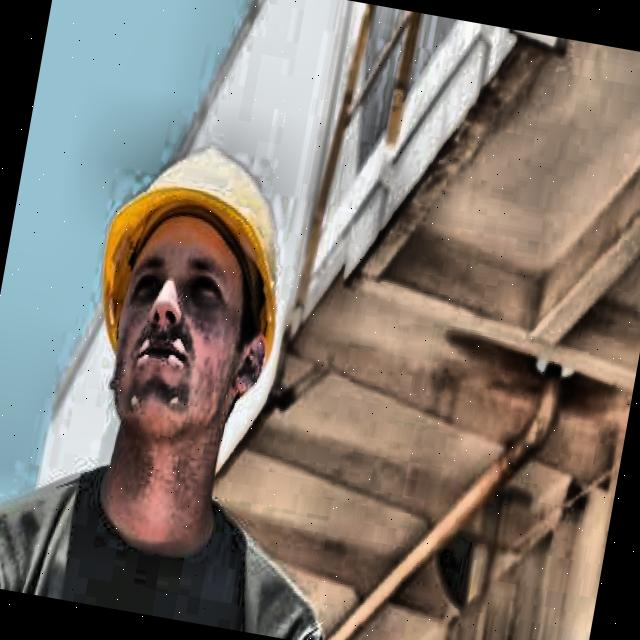helmet: (36, 65, 352, 538)
